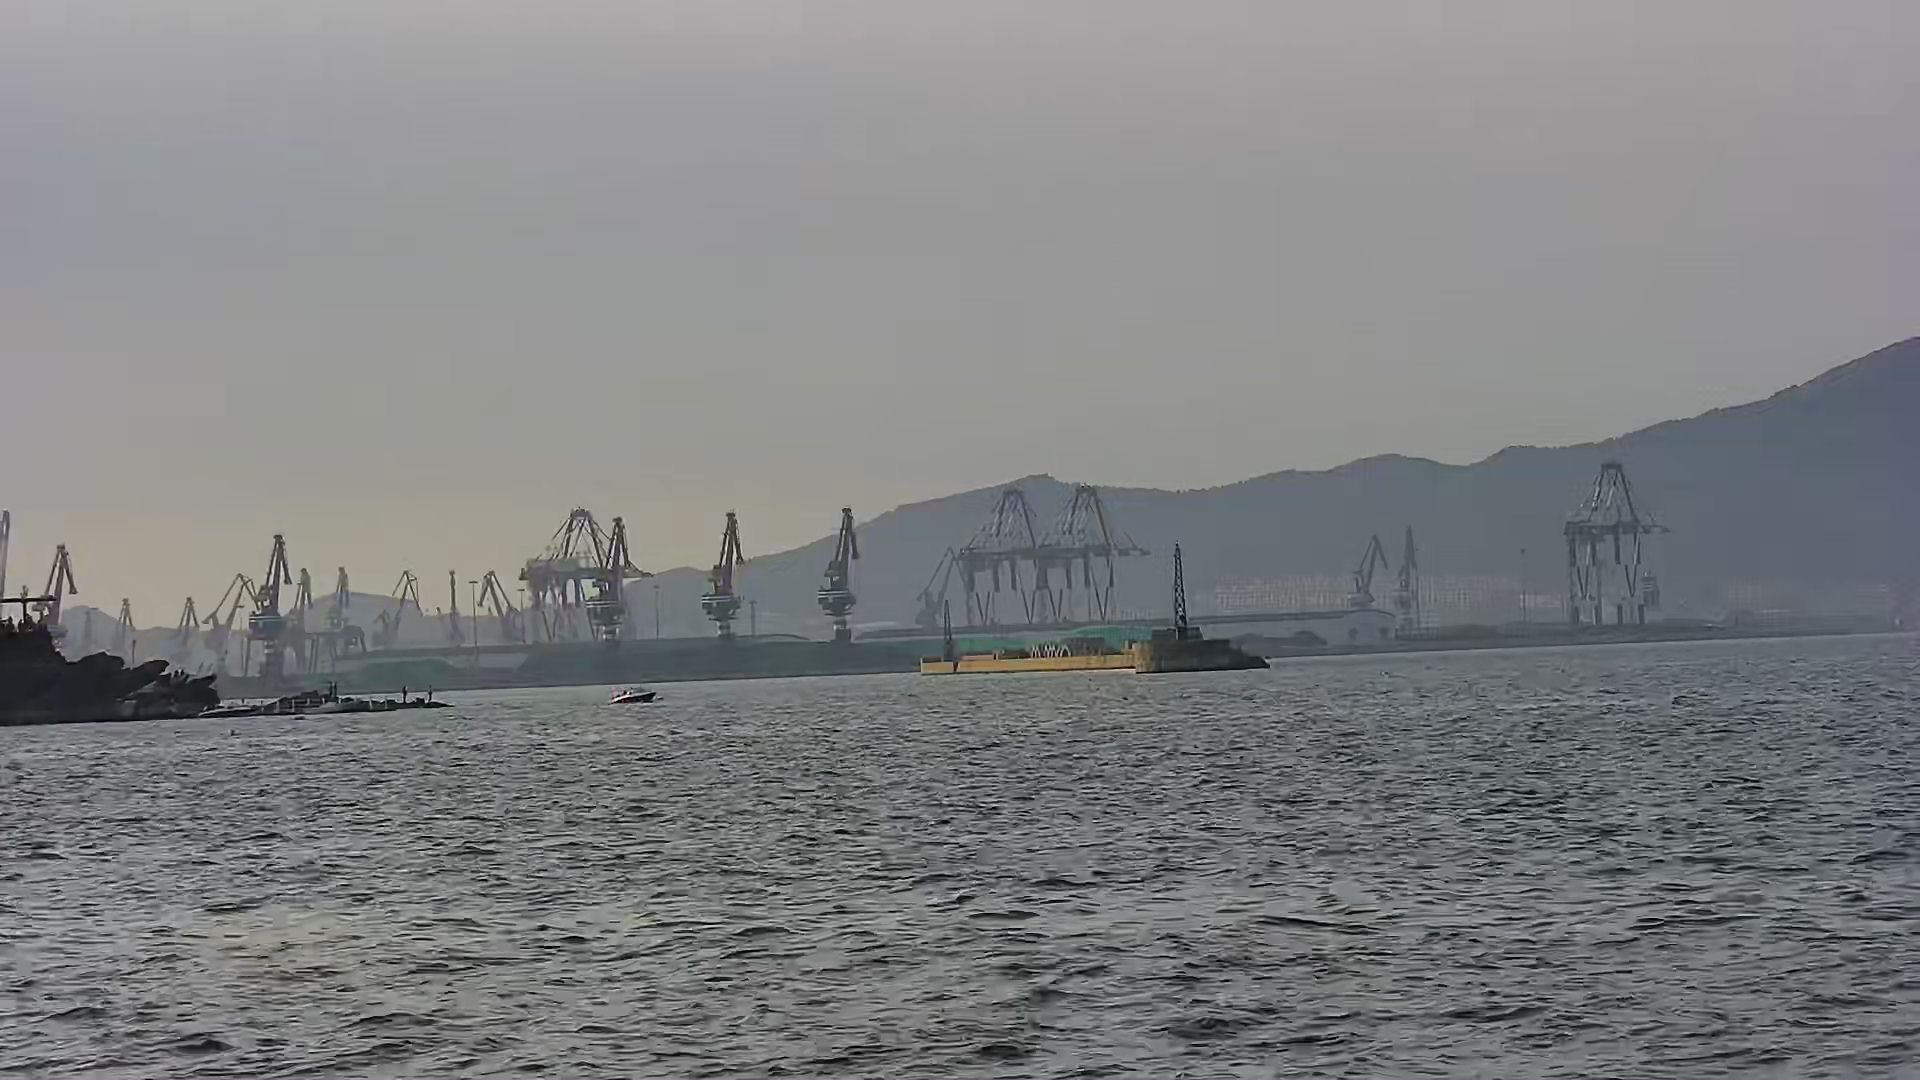boat: (603, 676, 663, 715)
